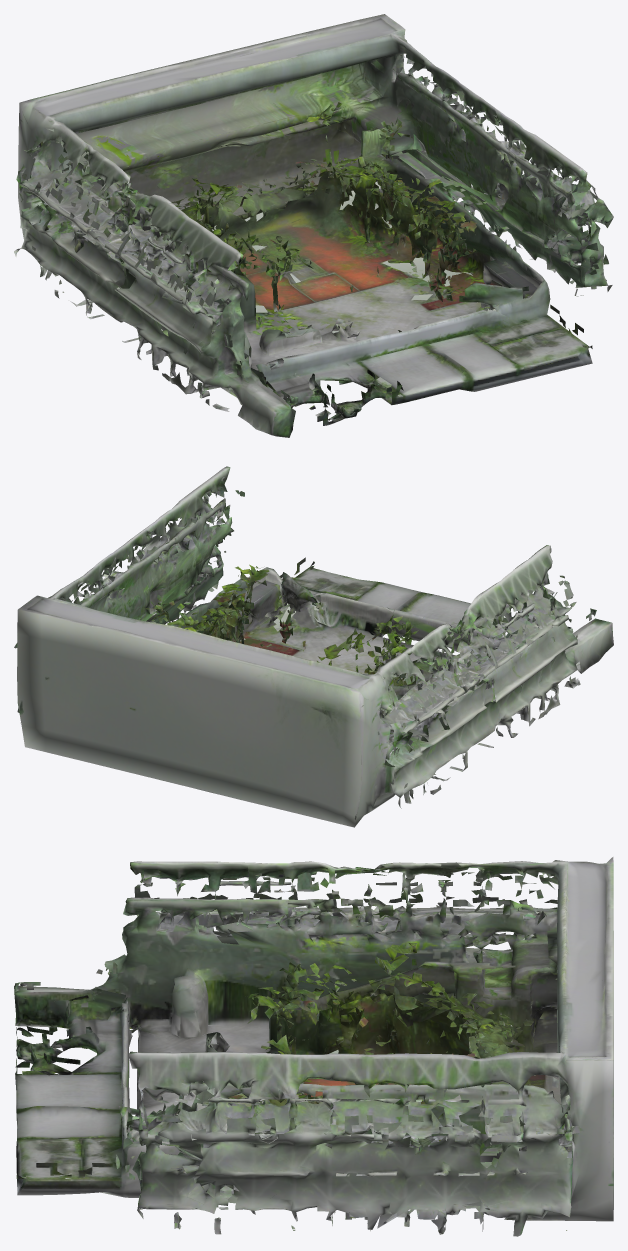
The picture shows the model from 3 angles, top to bottom: view 1: azimuth 30°, elevation 25°; view 2: azimuth 150°, elevation 25°; view 3: azimuth 270°, elevation 25°; orthographic projection. The views are drawn at different scales.
Bounding box in the file's own units: 1.83 × 0.6176 × 1.99.
Materials: 1 (1 with a texture image).
